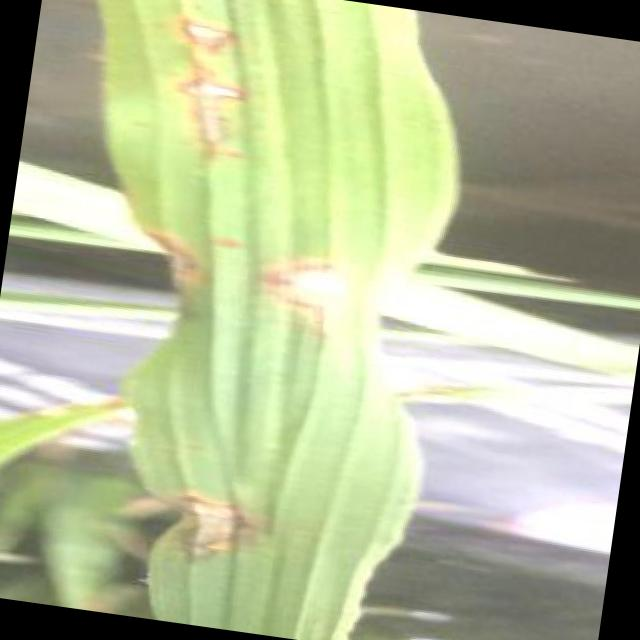Rice_Blast: (102, 182, 262, 352), (245, 199, 388, 376), (134, 432, 278, 570), (156, 58, 273, 164), (145, 0, 253, 76)
